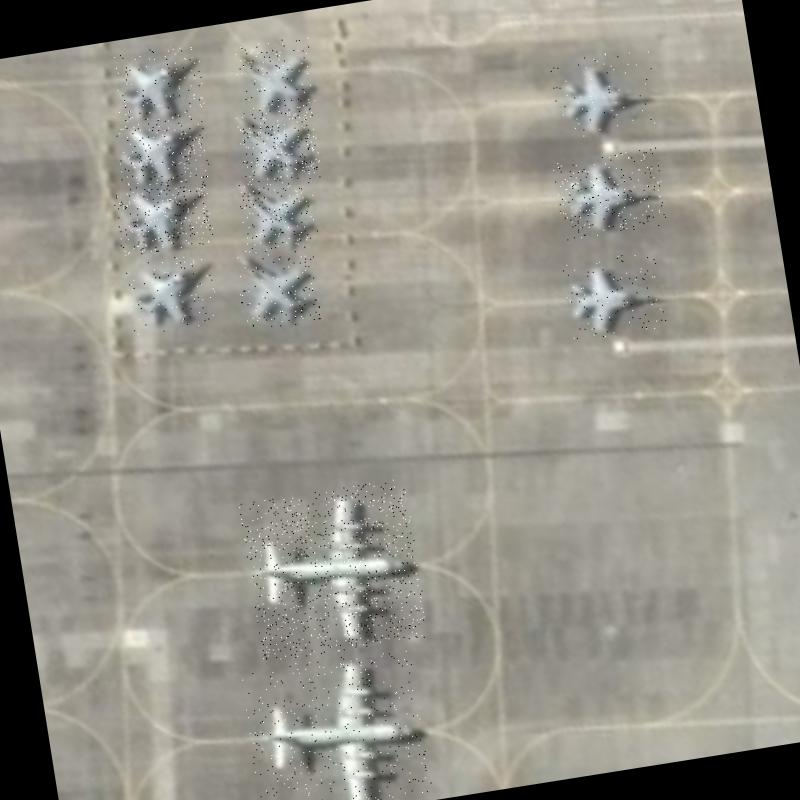A16: (552, 147, 668, 240), (549, 46, 660, 140), (560, 250, 667, 342), (232, 239, 324, 332), (110, 42, 208, 127), (112, 177, 215, 257), (124, 251, 220, 336), (235, 102, 322, 190), (236, 168, 320, 258), (112, 113, 210, 190), (232, 35, 319, 119)
A9: (238, 478, 430, 662), (238, 644, 432, 800)
